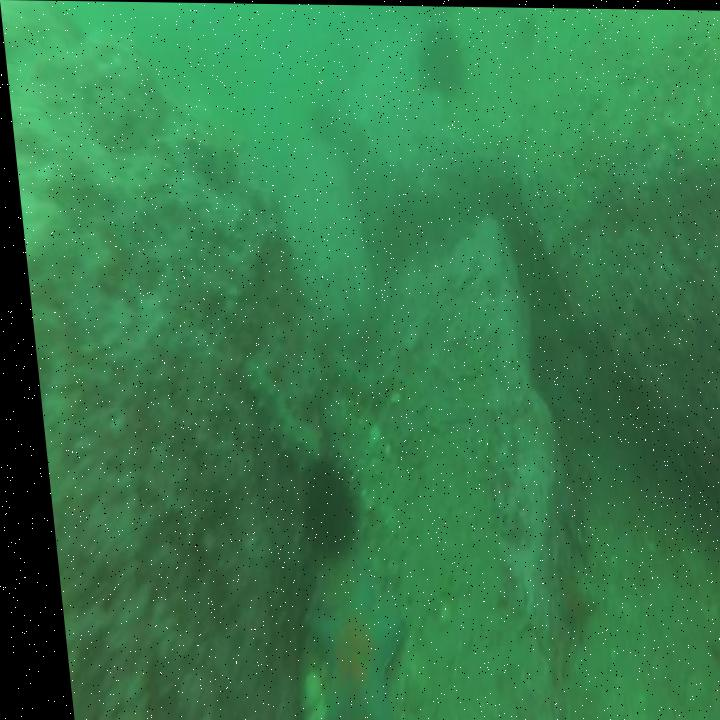echinus: (279, 439, 353, 564), (409, 23, 466, 101)
holothurian: (307, 336, 390, 411)
starfish: (286, 581, 401, 720), (540, 552, 587, 642)
